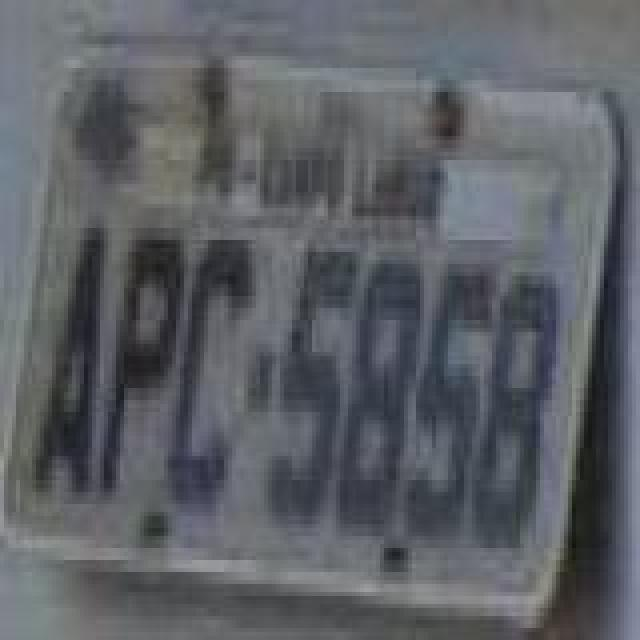5: (264, 244, 360, 532), (404, 270, 492, 546)
8: (332, 254, 420, 530), (472, 278, 560, 554)
A: (32, 230, 104, 506)
C: (164, 234, 252, 510)
P: (96, 236, 184, 500)
